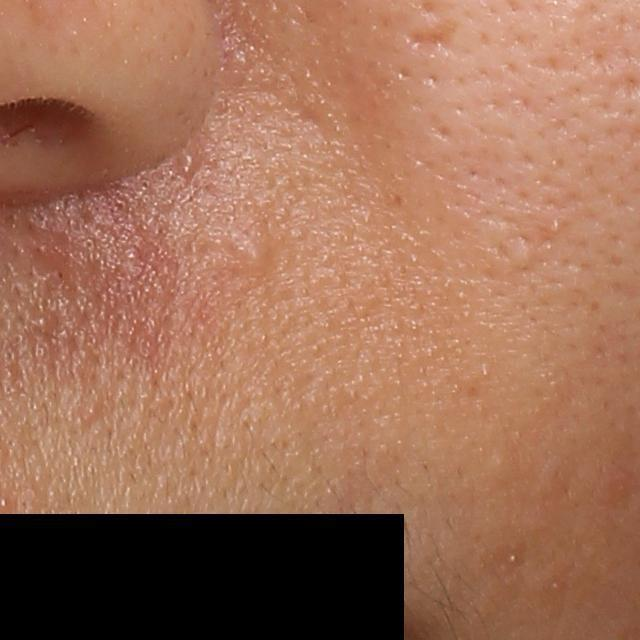atrophic_scar: (407, 20, 461, 58)
comedo: (230, 231, 280, 276), (545, 217, 565, 235)
